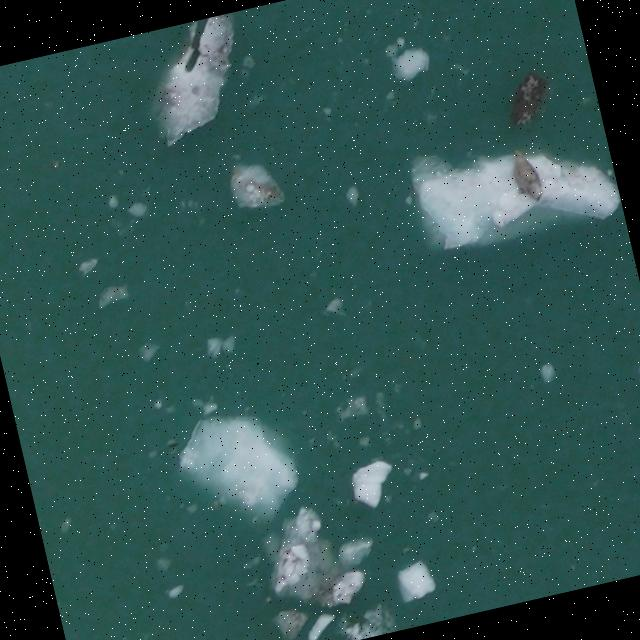seal: (501, 139, 550, 209)
